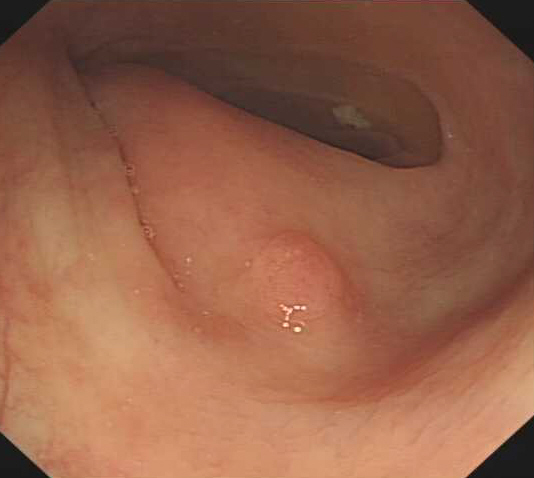adenoma: (245, 227, 342, 330)
